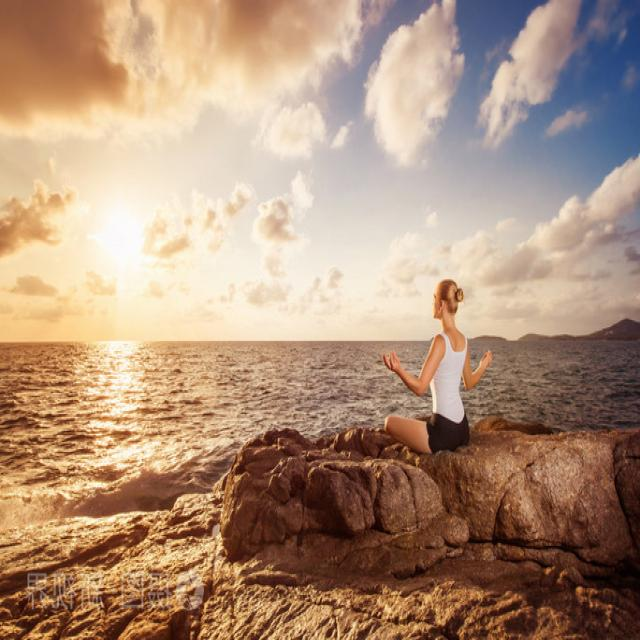reef: (162, 444, 338, 567)
